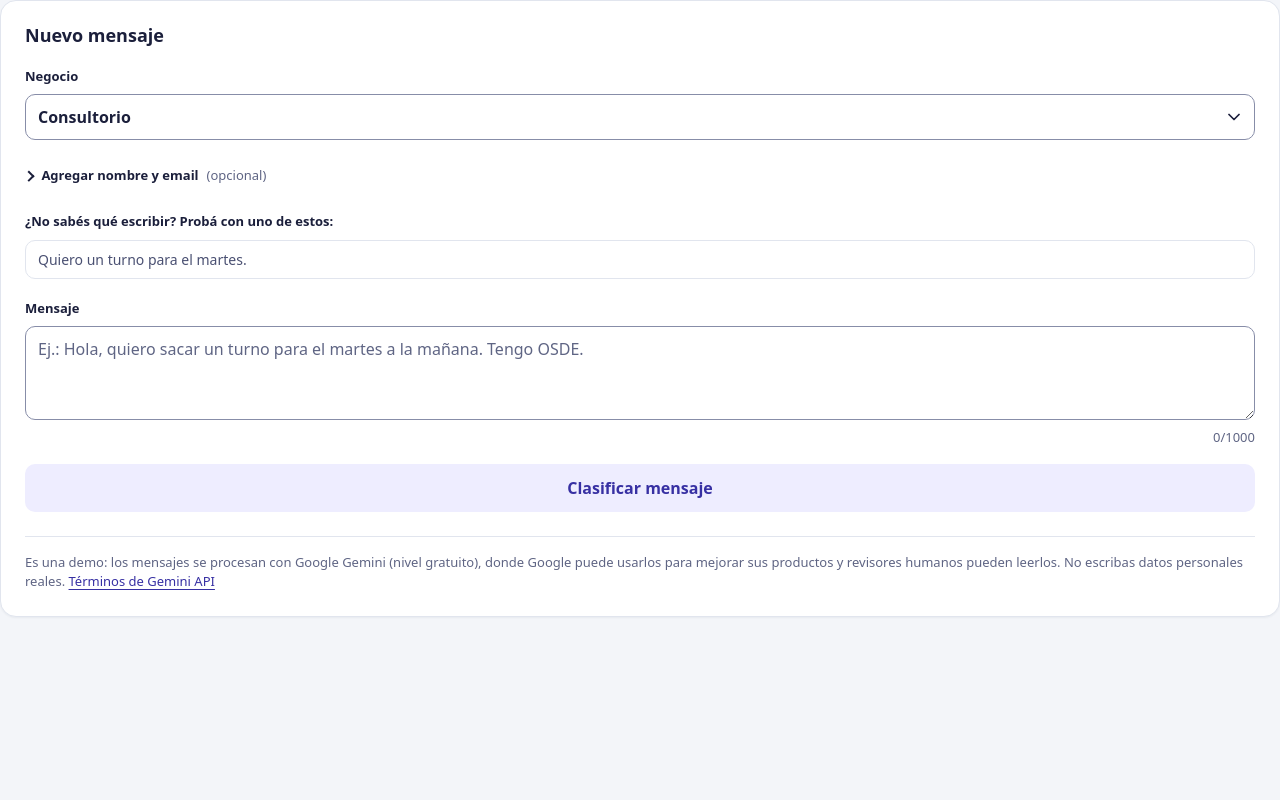
Scenario: MessageForm › fills the message with a suggestion
Click the button "Quiero un turno para el martes.": x=142, y=259 [25,240,1255,279]
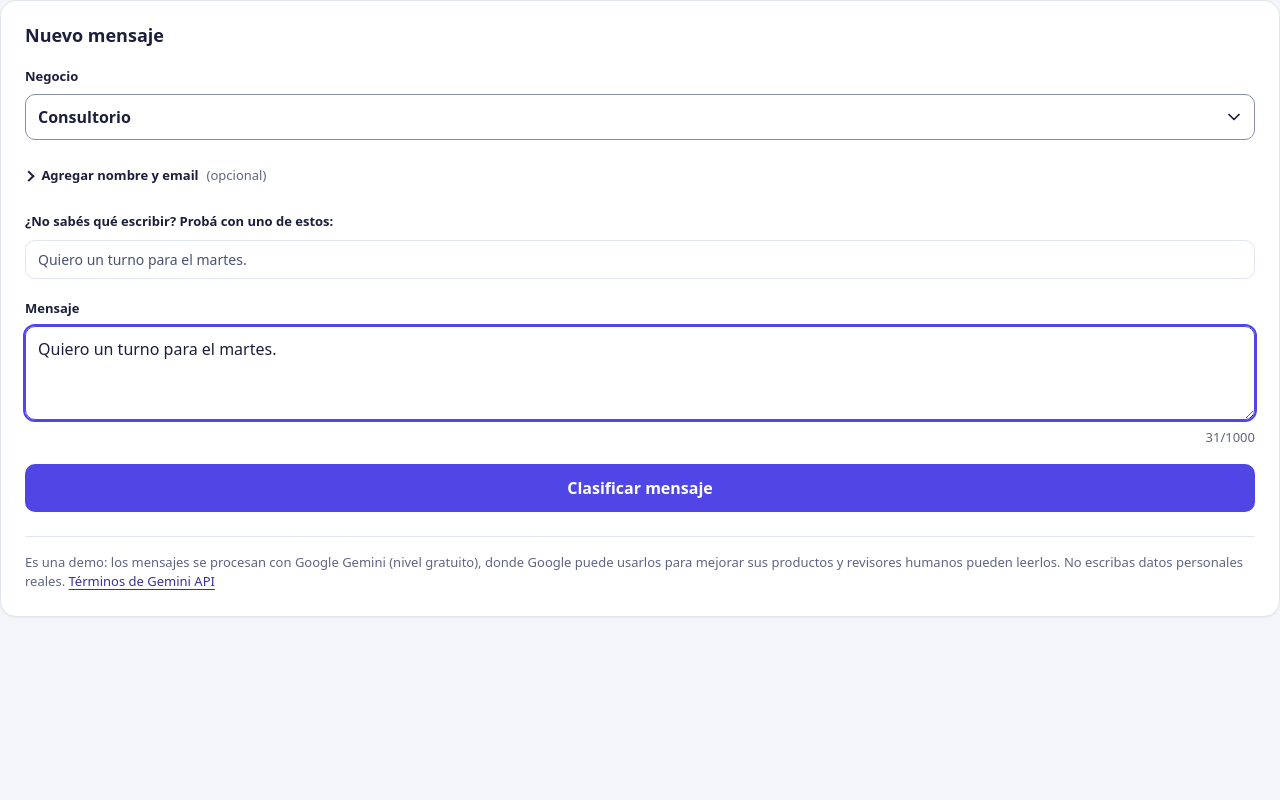
Now the text box labelled "Mensaje" holds "Quiero un turno para el martes.", box [25,326,1255,420]
Now the button "Clasificar mensaje" is enabled, box [25,464,1255,512]
